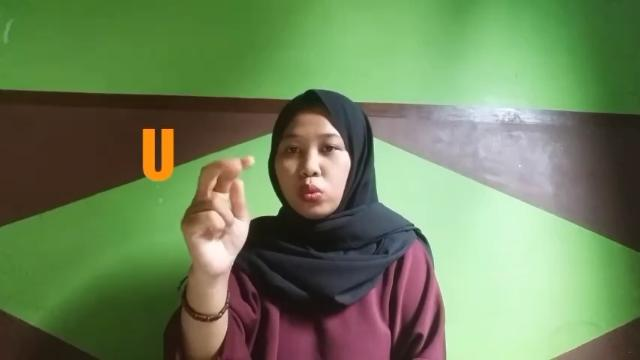U: (181, 154, 261, 272)
